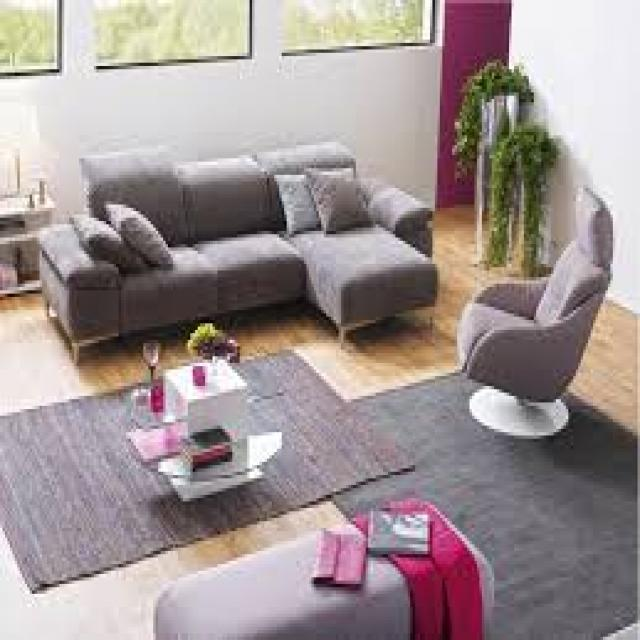a sofa: (71, 146, 422, 338), (156, 509, 496, 631), (467, 222, 640, 410)
table: (102, 349, 336, 531)
tree: (459, 55, 562, 246)
